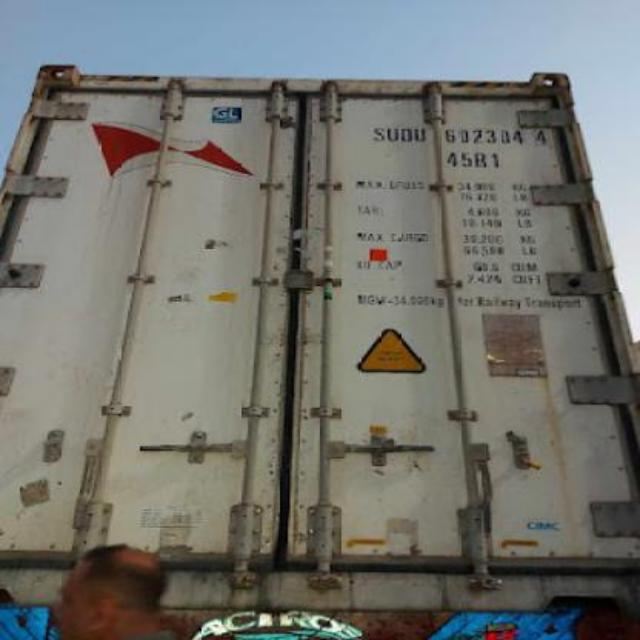0: (496, 122, 509, 148), (458, 124, 470, 144)
2: (471, 122, 484, 144)
3: (482, 121, 496, 142)
4: (530, 124, 550, 148), (510, 122, 528, 146)
6: (444, 122, 458, 144)
D: (398, 122, 412, 144)
S: (370, 122, 386, 146)
U: (412, 121, 428, 142), (384, 122, 398, 144)
